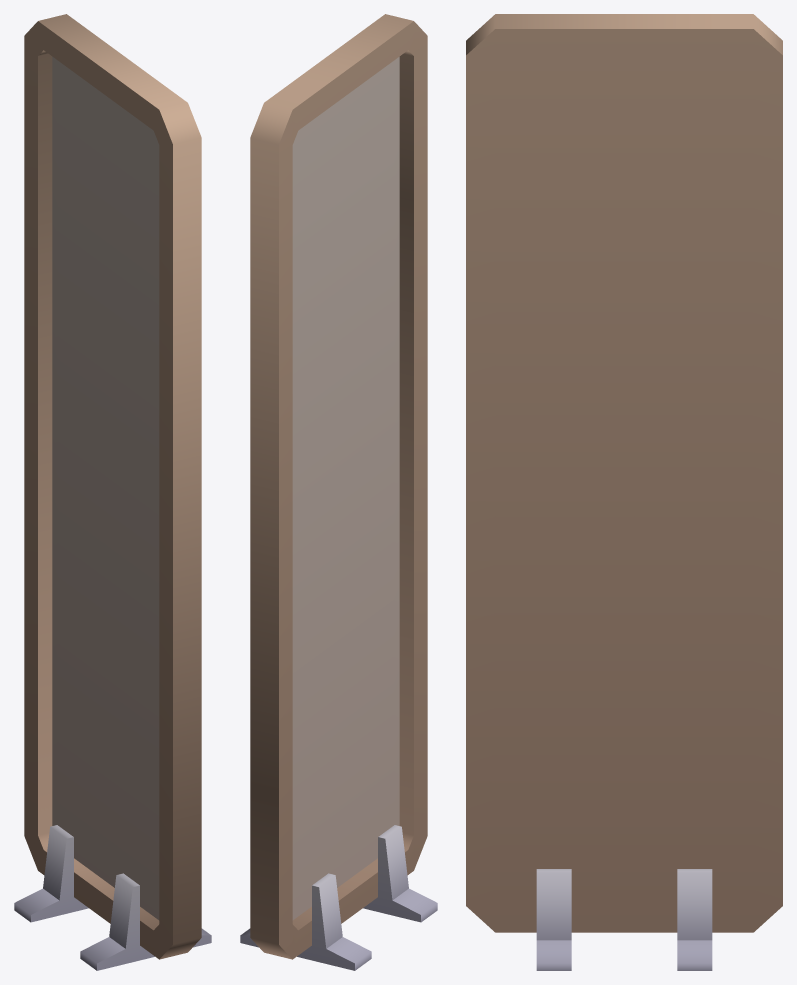
File: room-divider-solid.glb
3 views of the same model, side by side, from view 1: azimuth 30°, elevation 25°; view 2: azimuth 150°, elevation 25°; view 3: azimuth 270°, elevation 25° (orthographic). The views are drawn at different scales.
Parts seen in each view (by area): view 1: room-divider-solid; view 2: room-divider-solid; view 3: room-divider-solid.
Part boxes in pixels (x1,y1,x2,y2): room-divider-solid: [14, 14, 211, 970]; room-divider-solid: [240, 14, 437, 970]; room-divider-solid: [466, 14, 782, 970].
Bounding box in the file's own units: 0.24 × 1.73 × 0.54.
